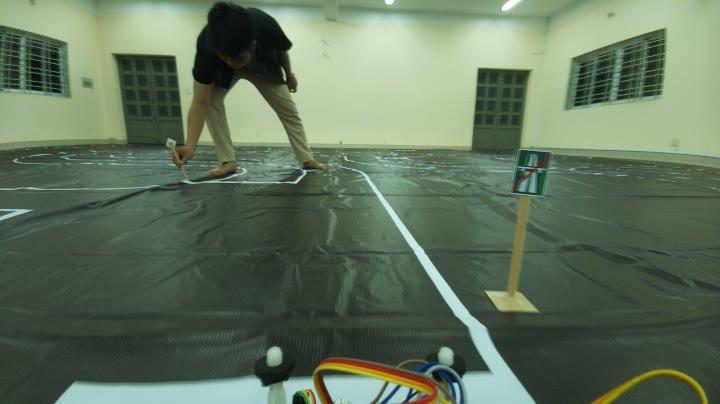highway_exit: (504, 147, 561, 203)
